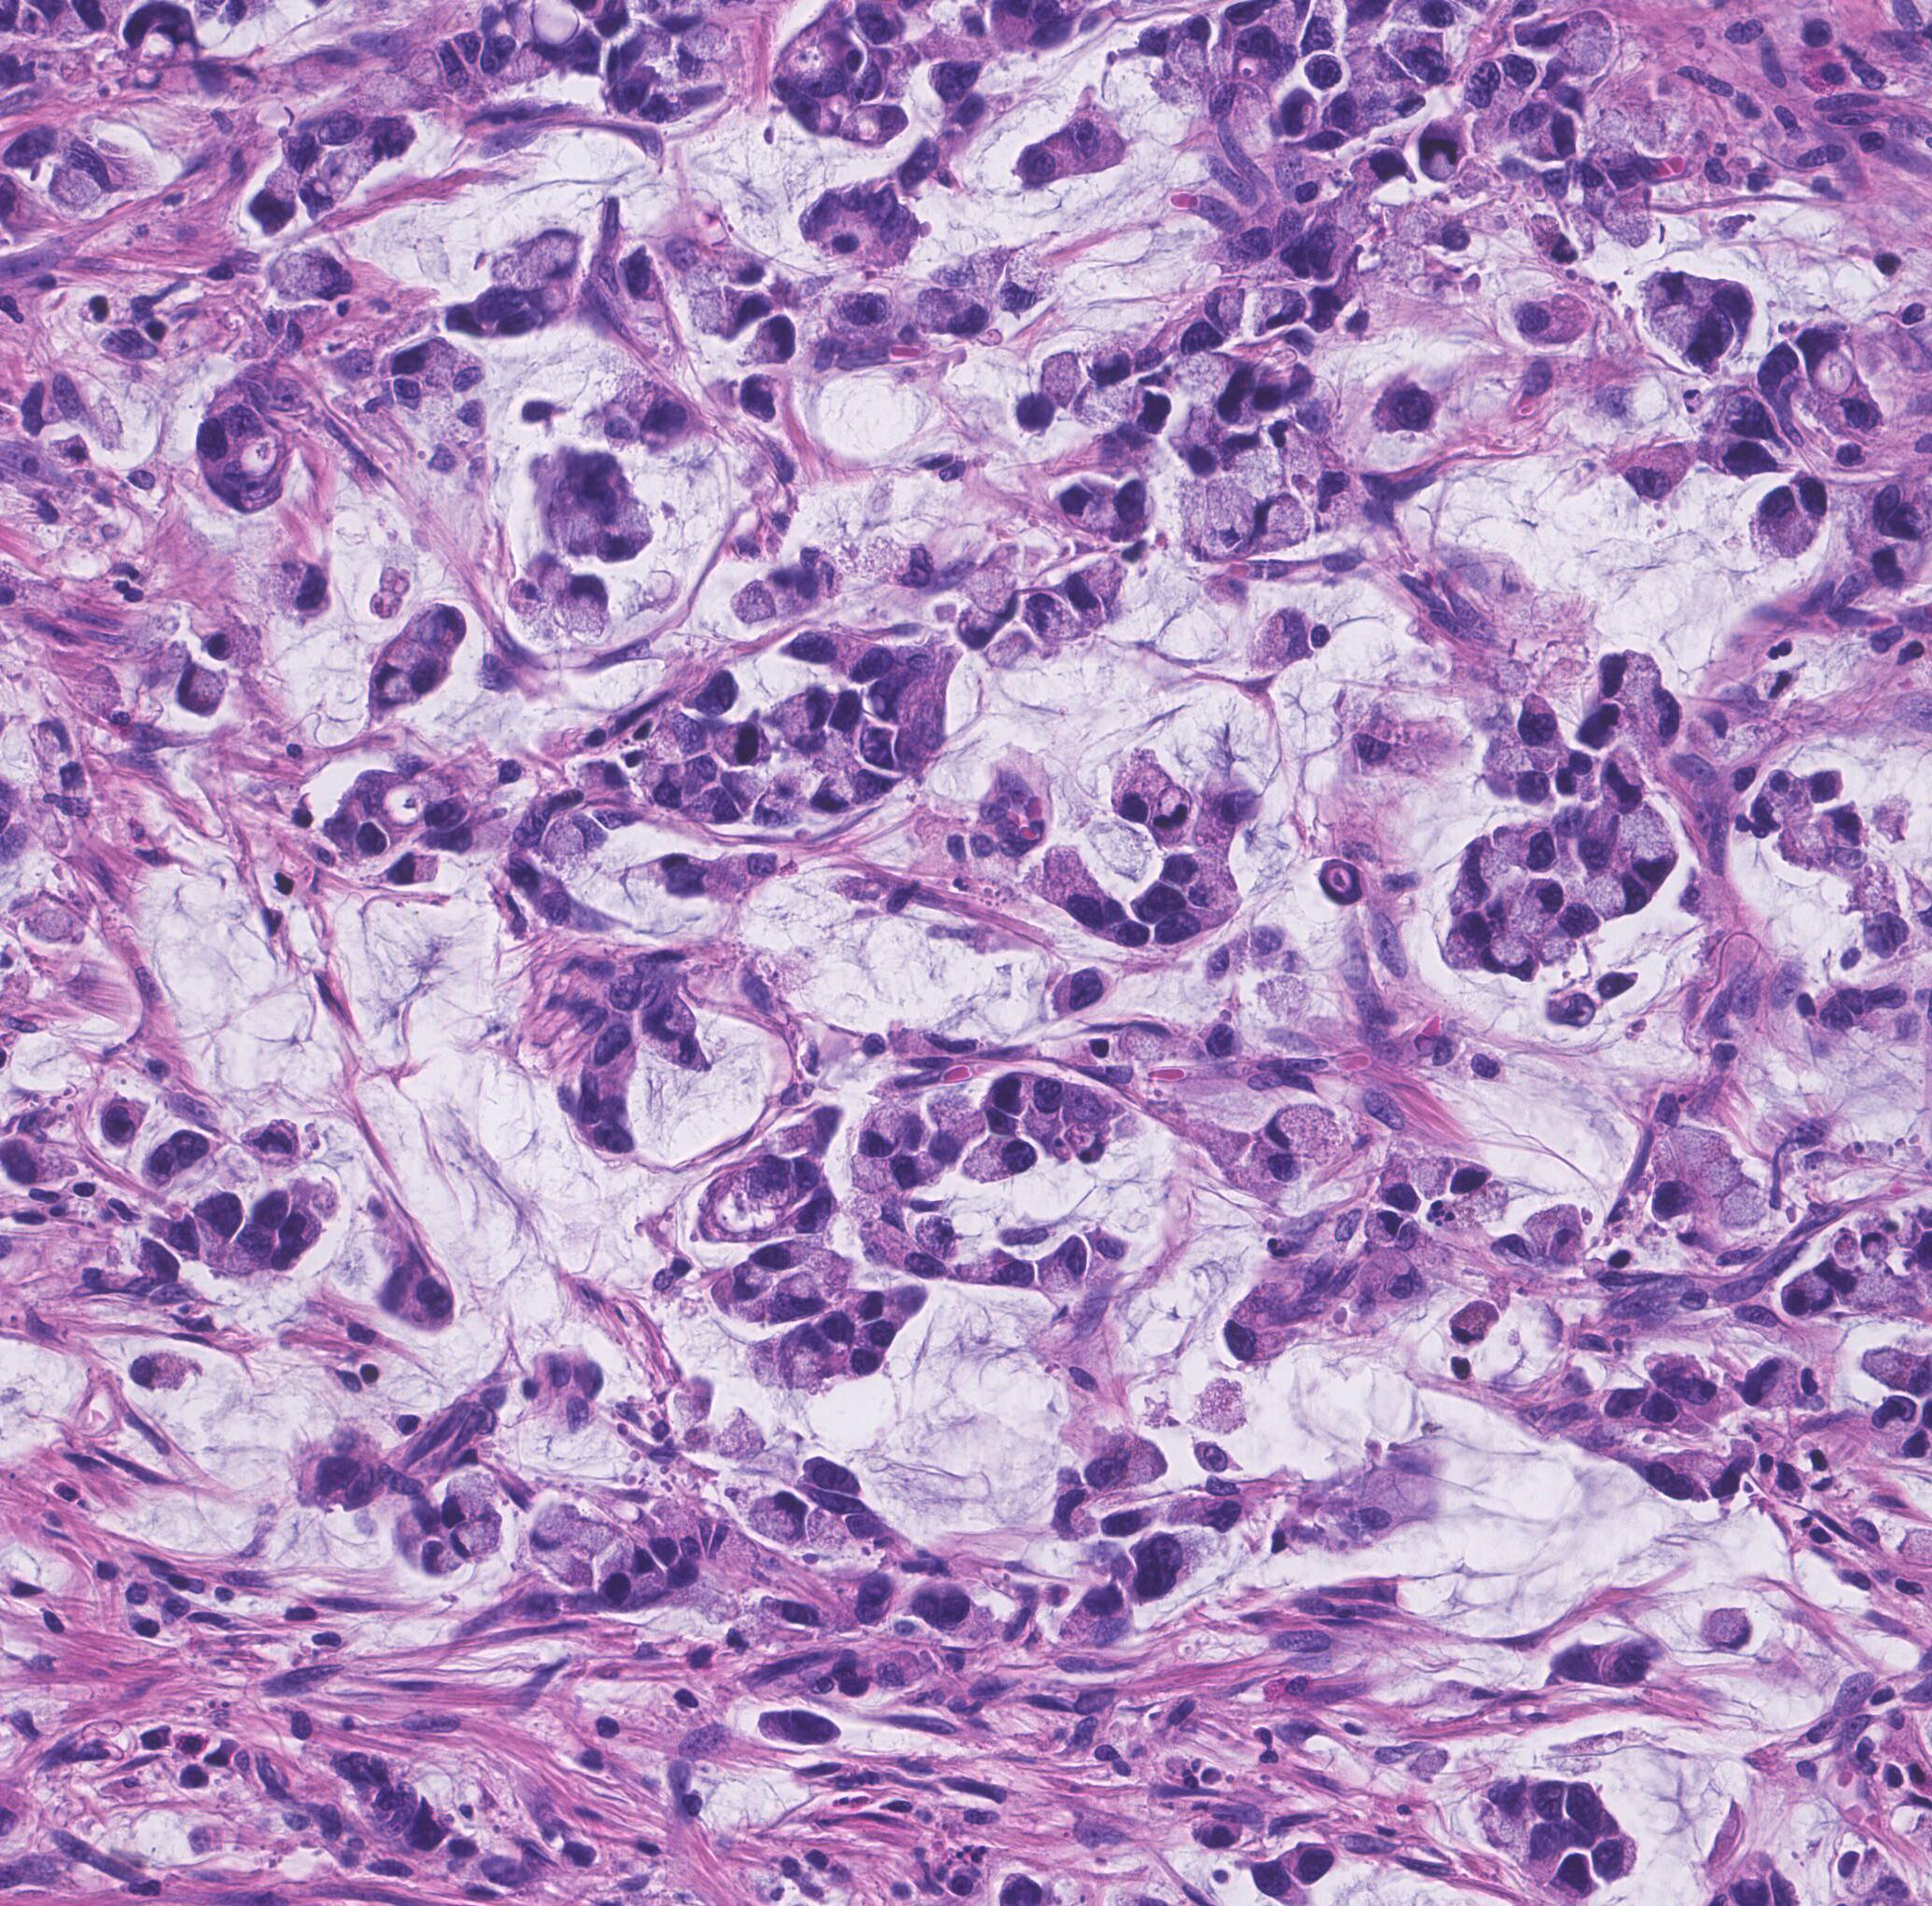ring_cell_cancer: (1655, 300, 1735, 370), (642, 997, 710, 1075), (510, 225, 586, 293), (918, 279, 991, 347), (271, 253, 356, 311), (38, 150, 117, 208), (1086, 1436, 1173, 1487), (1623, 438, 1689, 501), (747, 1482, 810, 1548), (752, 1709, 845, 1752), (1513, 295, 1590, 347), (969, 1138, 1045, 1190), (1257, 272, 1312, 344), (552, 574, 620, 632), (1065, 564, 1133, 620), (749, 307, 805, 374), (1593, 745, 1648, 813), (271, 560, 330, 621), (1436, 1295, 1503, 1349), (1264, 602, 1316, 670), (956, 566, 1024, 618), (1595, 648, 1660, 702), (1044, 1234, 1098, 1299), (438, 1468, 503, 1522), (131, 1356, 208, 1402), (658, 855, 736, 899), (717, 714, 778, 770), (182, 662, 237, 723), (1703, 1602, 1764, 1656), (1049, 962, 1110, 1016), (1759, 478, 1801, 557), (1110, 756, 1159, 820), (372, 852, 454, 890), (16, 901, 82, 948), (246, 1119, 304, 1173), (1529, 216, 1585, 271), (1417, 124, 1466, 185), (846, 103, 915, 147), (1264, 1110, 1337, 1150), (569, 759, 642, 799), (1316, 855, 1367, 913), (1281, 1841, 1342, 1889), (1260, 494, 1314, 546), (1042, 351, 1093, 407), (862, 1101, 908, 1162), (1517, 695, 1569, 747), (1208, 276, 1251, 337), (99, 1098, 150, 1150), (780, 695, 834, 744), (192, 1194, 246, 1243), (955, 606, 1005, 656), (550, 813, 600, 862), (31, 714, 80, 764), (1635, 833, 1686, 880), (1592, 1838, 1642, 1885), (504, 576, 548, 630), (792, 1110, 846, 1154), (728, 583, 778, 628), (1592, 878, 1648, 918), (721, 1271, 771, 1311), (531, 1503, 571, 1553), (1052, 1489, 1089, 1543), (1518, 878, 1562, 923), (449, 1525, 501, 1562), (778, 1281, 832, 1316), (1187, 1436, 1236, 1475), (1546, 997, 1597, 1033), (747, 1243, 815, 1269), (1157, 782, 1192, 829), (1763, 668, 1805, 703), (581, 1519, 616, 1557), (1367, 1210, 1403, 1243), (618, 1496, 654, 1529), (1511, 936, 1538, 979), (1482, 934, 1506, 977), (1862, 1231, 1892, 1258), (1412, 1030, 1435, 1058)
